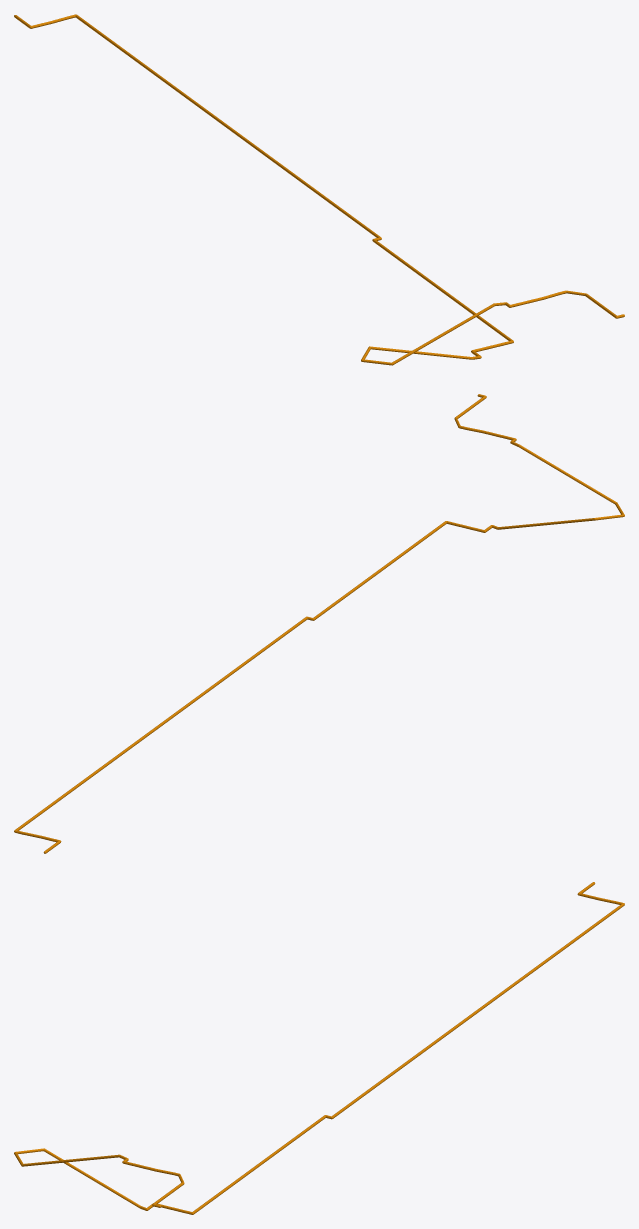
3 views of the same model, one above another, from view 1: azimuth 30°, elevation 25°; view 2: azimuth 150°, elevation 25°; view 3: azimuth 330°, elevation 25° (orthographic). The views are drawn at different scales.
Bounding box in the file's own units: 1563 × 520 × 6903.
